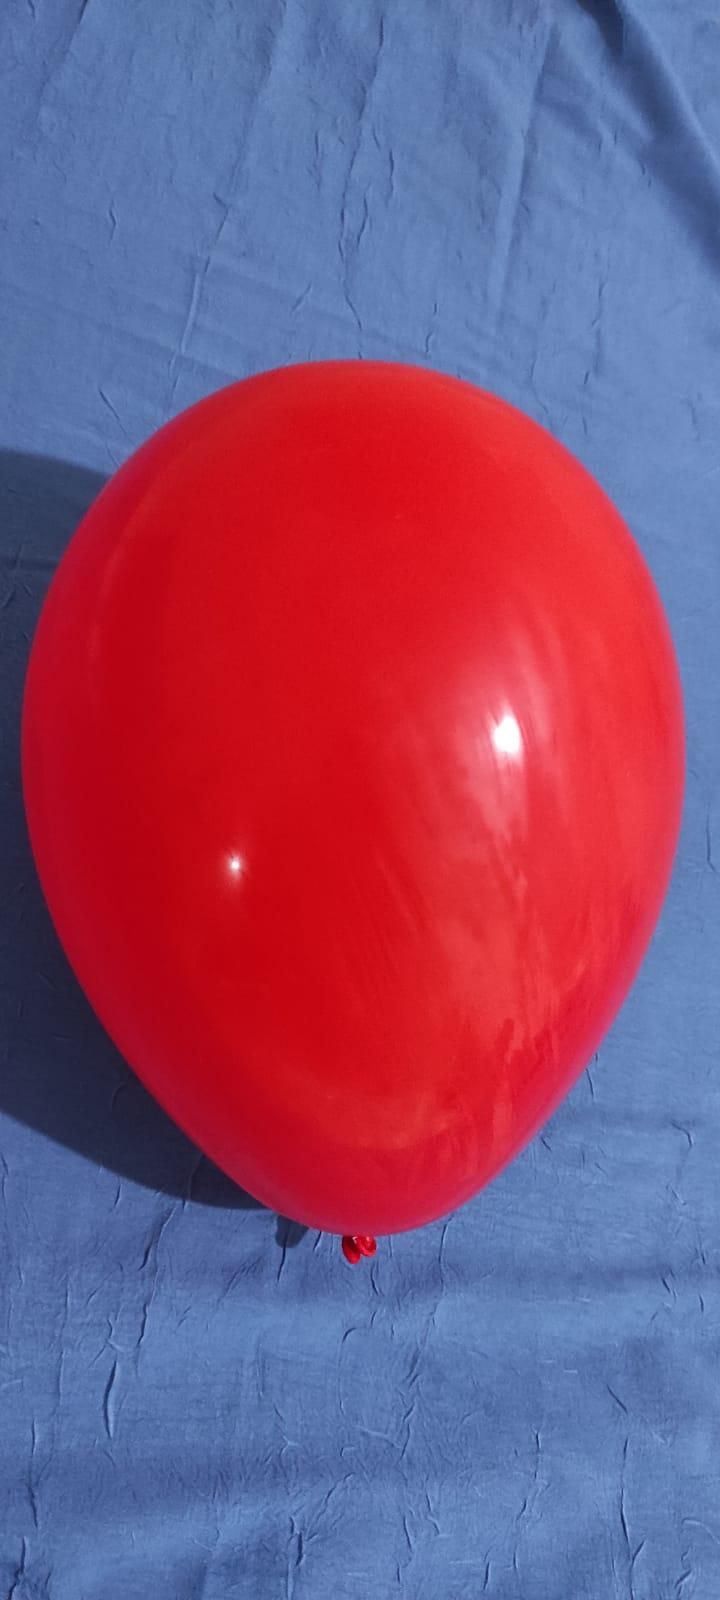red: (14, 357, 684, 1248)
